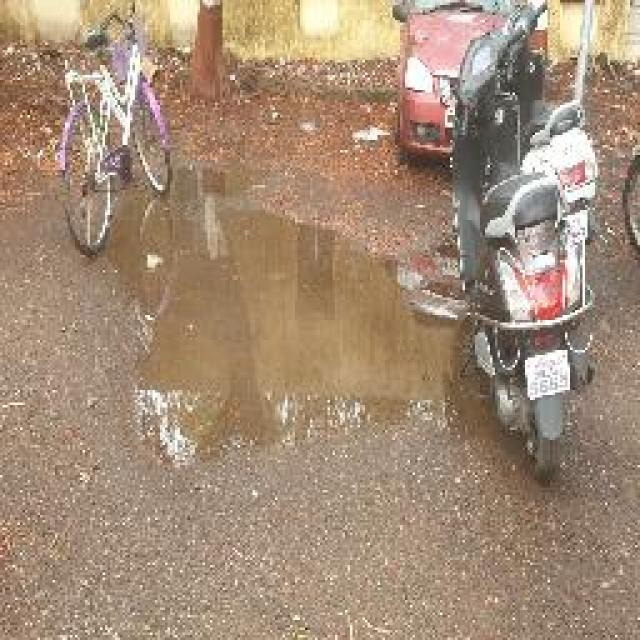puddle: (93, 168, 487, 473)
